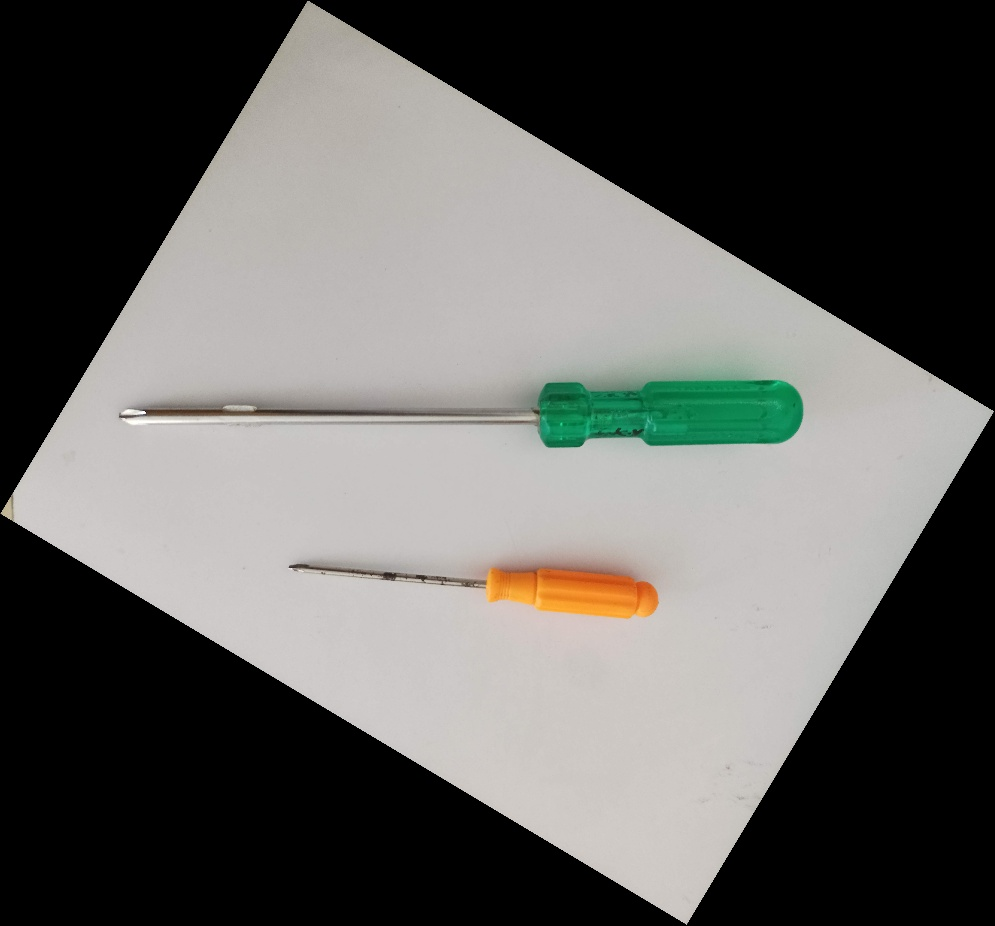screwdriver: (117, 372, 820, 454), (289, 561, 661, 620)
